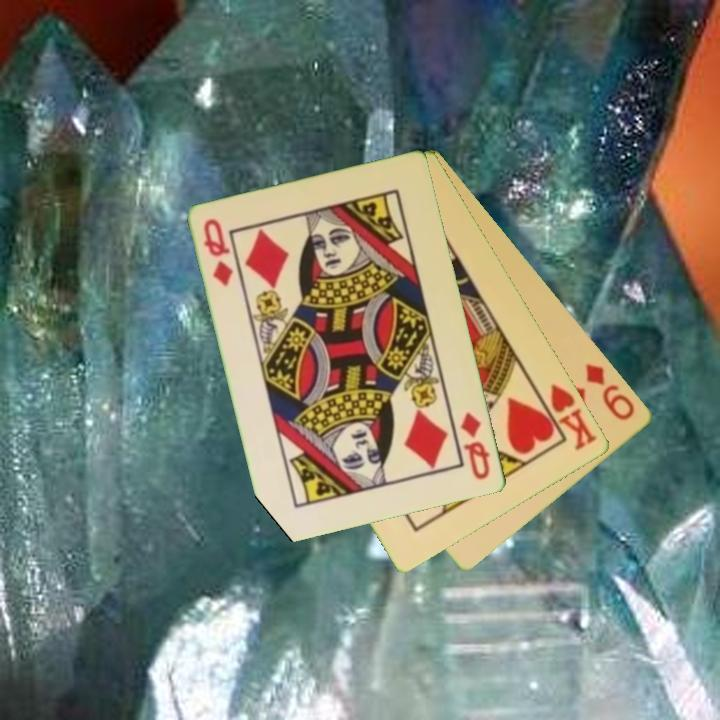9d: (582, 360, 639, 423)
Kh: (533, 380, 600, 453)
Qd: (457, 409, 494, 483), (200, 215, 237, 289)
